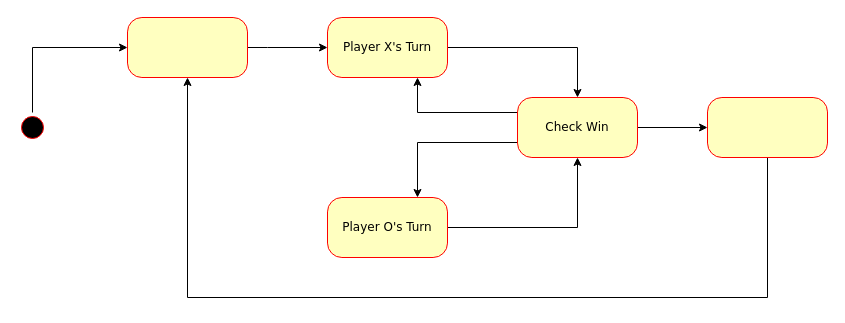
Image size: 845x323. Some labels were removed from this diagram. The centre of each missing label's shape, as x and y in pixels:
End Game: the point at 767,127
Initialization: the point at 187,47
